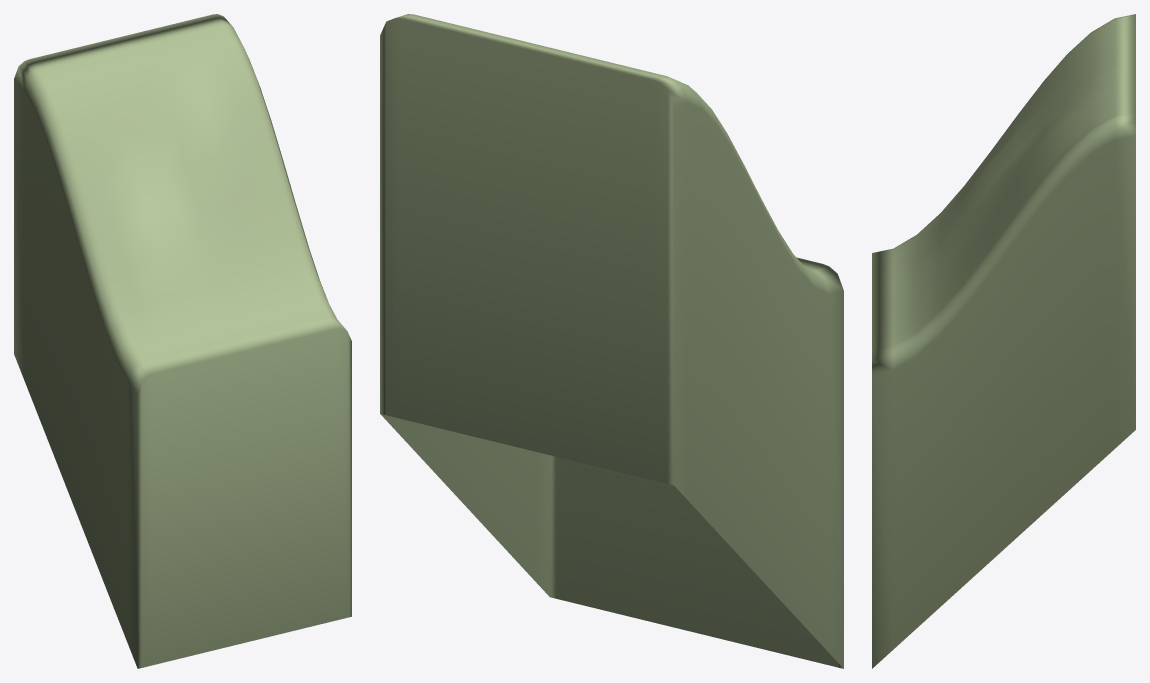
File: ground-ramp-lr-01.glb
The picture shows the model from 3 angles, left to right: view 1: azimuth 30°, elevation 25°; view 2: azimuth 150°, elevation 25°; view 3: azimuth 270°, elevation 25°; orthographic projection. The views are drawn at different scales.
Parts seen in each view (by area): view 1: ground-ramp-lr-01; view 2: ground-ramp-lr-01; view 3: ground-ramp-lr-01.
Part boxes in pixels (x1,y1,x2,y2): ground-ramp-lr-01: [14, 14, 351, 668]; ground-ramp-lr-01: [380, 14, 843, 668]; ground-ramp-lr-01: [872, 14, 1135, 668].
Size of the model in its own units: 1 by 2.3 by 1.
